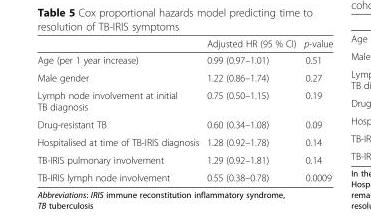table: (36, 37, 332, 182)
table column: (36, 37, 202, 182), (202, 37, 299, 182), (299, 37, 332, 182)
table column header: (36, 37, 332, 51)
table row: (36, 86, 332, 115), (36, 68, 332, 86), (36, 132, 332, 150), (36, 150, 332, 168), (36, 51, 332, 68), (36, 115, 332, 132), (36, 37, 332, 51), (36, 168, 332, 182)
